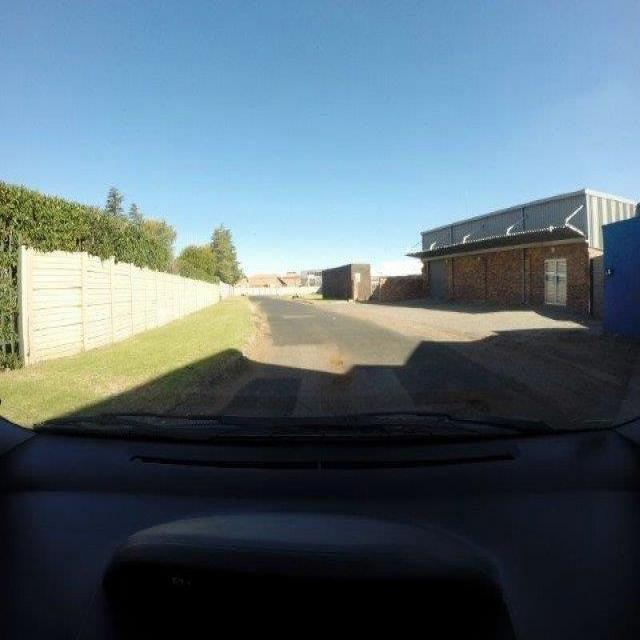lubang: (325, 349, 348, 384)
